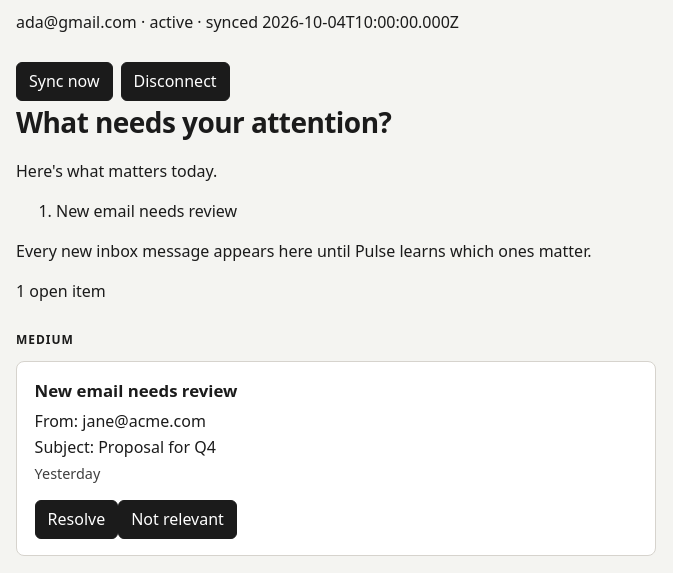
Test: attention inbox session › resolves with the same session token and removes the item
The image size is (673, 573).
Click the button "Resolve".
click(76, 519)  # box left=35, top=500, right=118, bottom=538
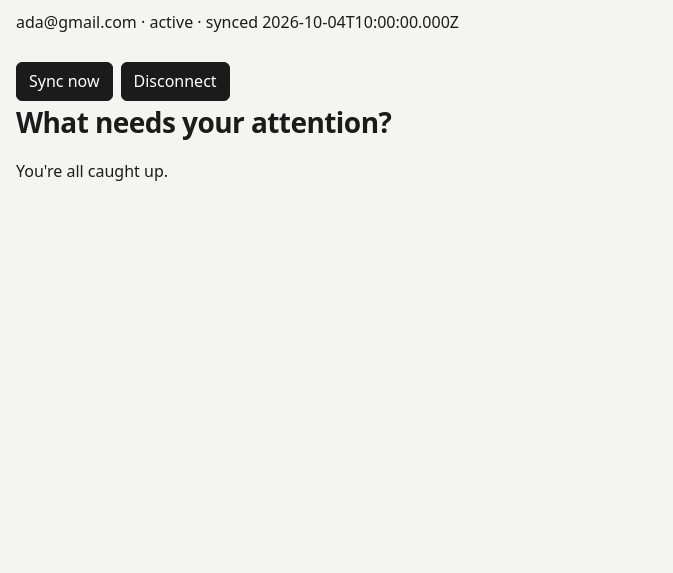
expect the text "New email needs review" is gone: met
expect the text "You're all caught up" is shown: met, box left=16, top=160, right=168, bottom=182
